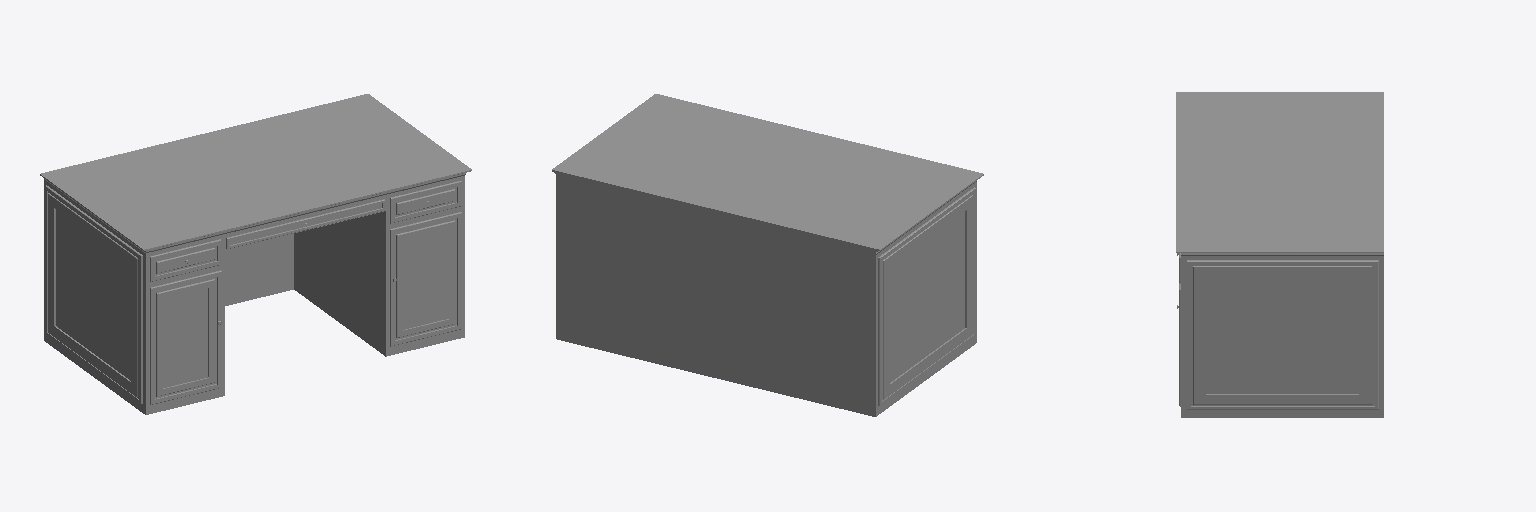
Rendered from simple_desk.obj.
The picture shows the model from 3 angles: view 1: azimuth 30°, elevation 25°; view 2: azimuth 150°, elevation 25°; view 3: azimuth 270°, elevation 25°; orthographic projection.
Parts seen in each view (by area): view 1: simple_desk; view 2: simple_desk; view 3: simple_desk.
Boxes of the visible parts, <box> form: simple_desk: <box>40,94,471,414</box>; simple_desk: <box>552,94,983,416</box>; simple_desk: <box>1176,92,1383,417</box>.
Bounding box in the file's own units: 163 × 79.99 × 89.54.